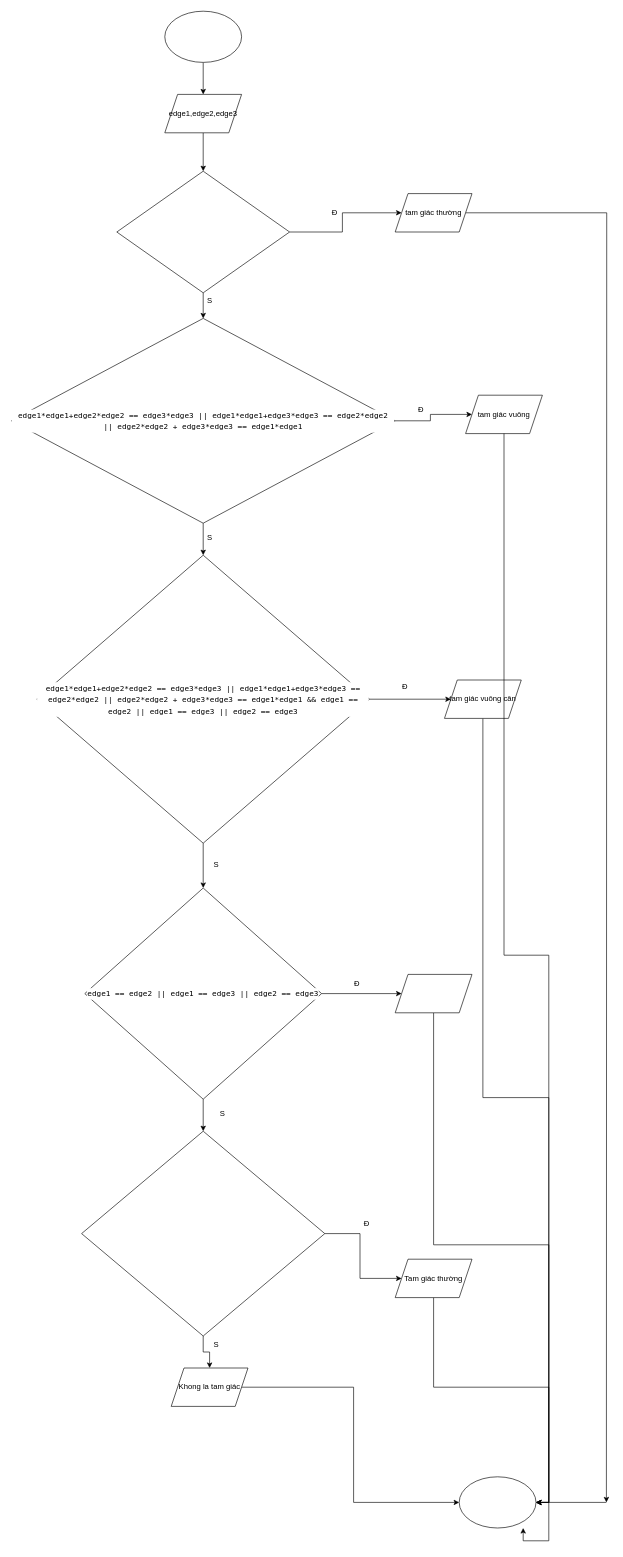
Some shapes in this 623 by 1557 pixel diagram are drawn without their labels. The centre of each missing label's shape, as x and y in pixels:
edge1 = edge2 && edge2 = edge3: the point at 203,232
edge1+edge2>edge3 || edge1+edge3>edge2 || edge2+edge3>edge1: the point at 203,1233
End: the point at 497,1502
Start: the point at 203,36
tam giác cân: the point at 433,993
